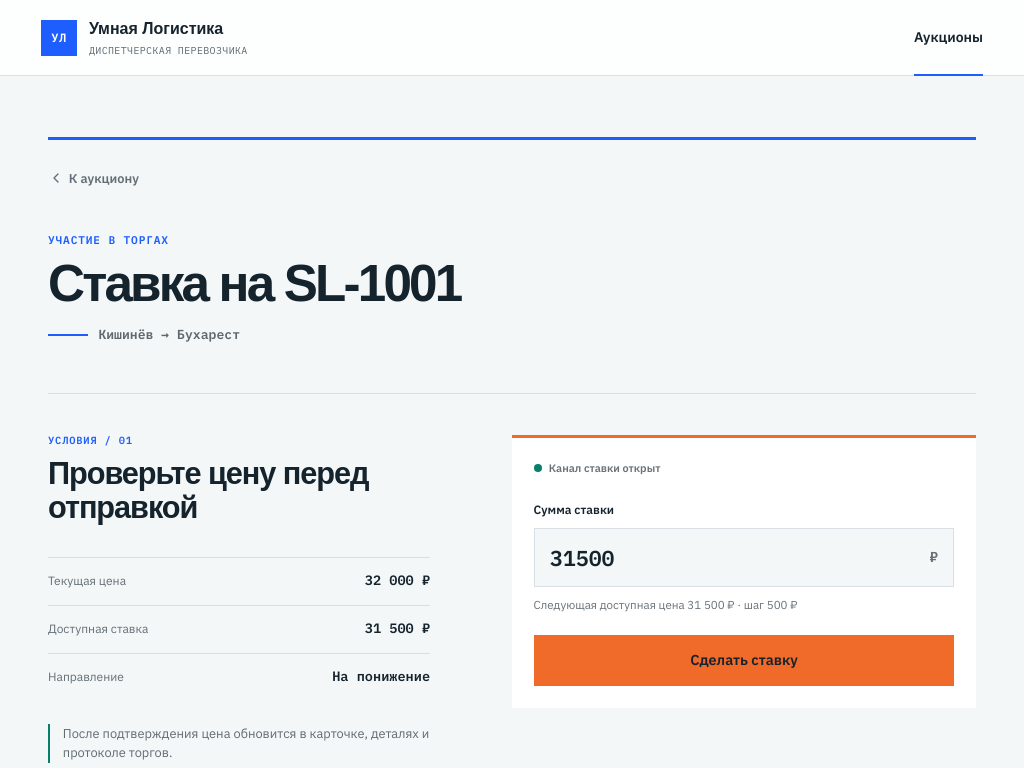
Scenario: auction place-bid feature › keeps input and cached state unchanged after a real network error
Replace the text in the field labelled "Сумма ставки" with "31000" at (732, 558), box [535,529,930,586]
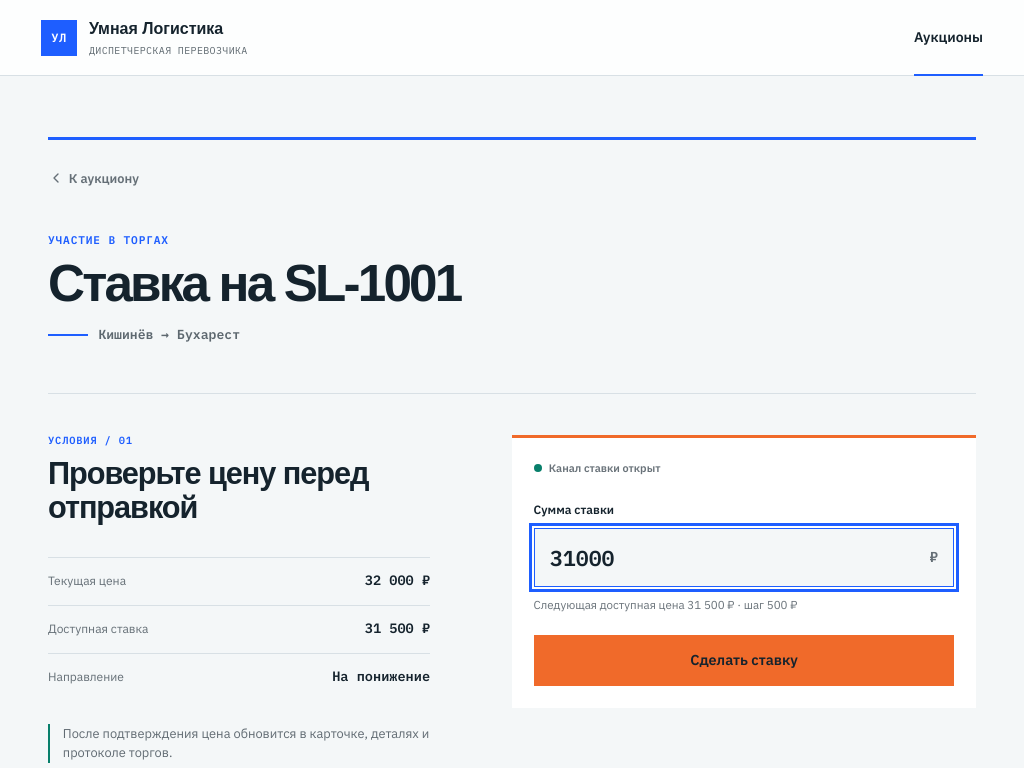
Click the button "Сделать ставку" at (744, 660), box [534,635,954,686]
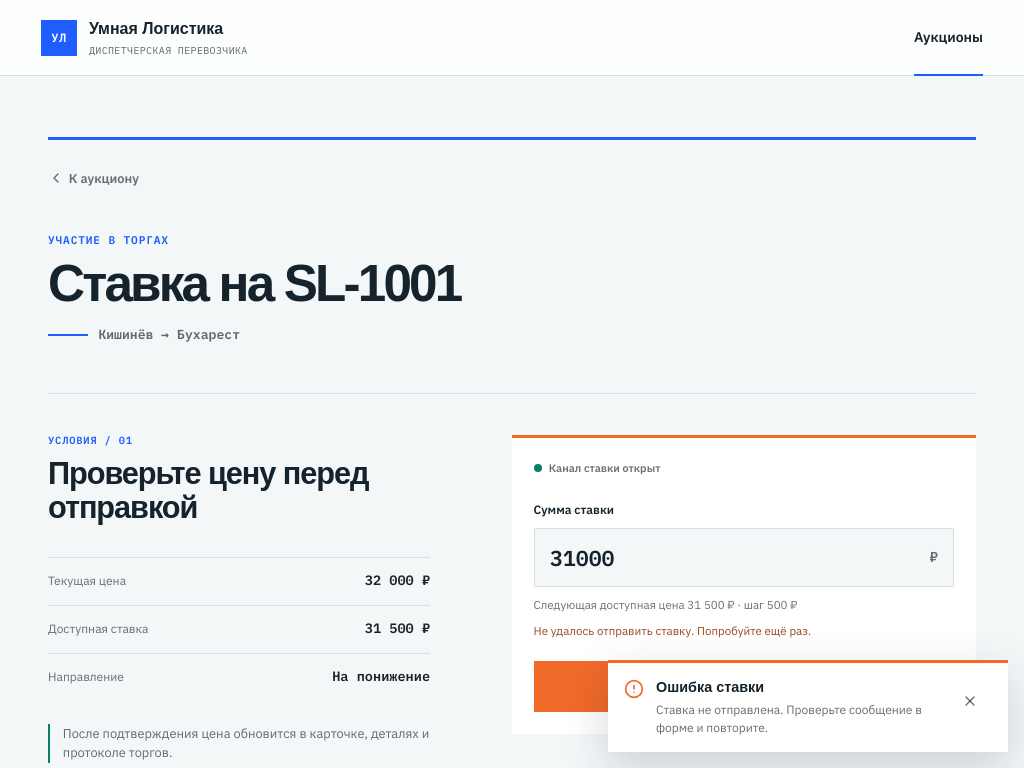
Now the text "Не удалось отправить ставку. Попробуйте ещё раз." is shown, box [534,623,811,638]
